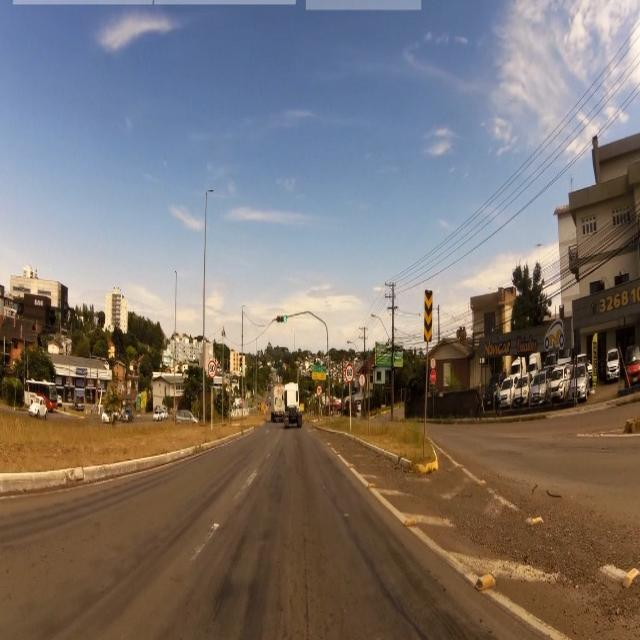MP: (424, 288, 434, 347)
